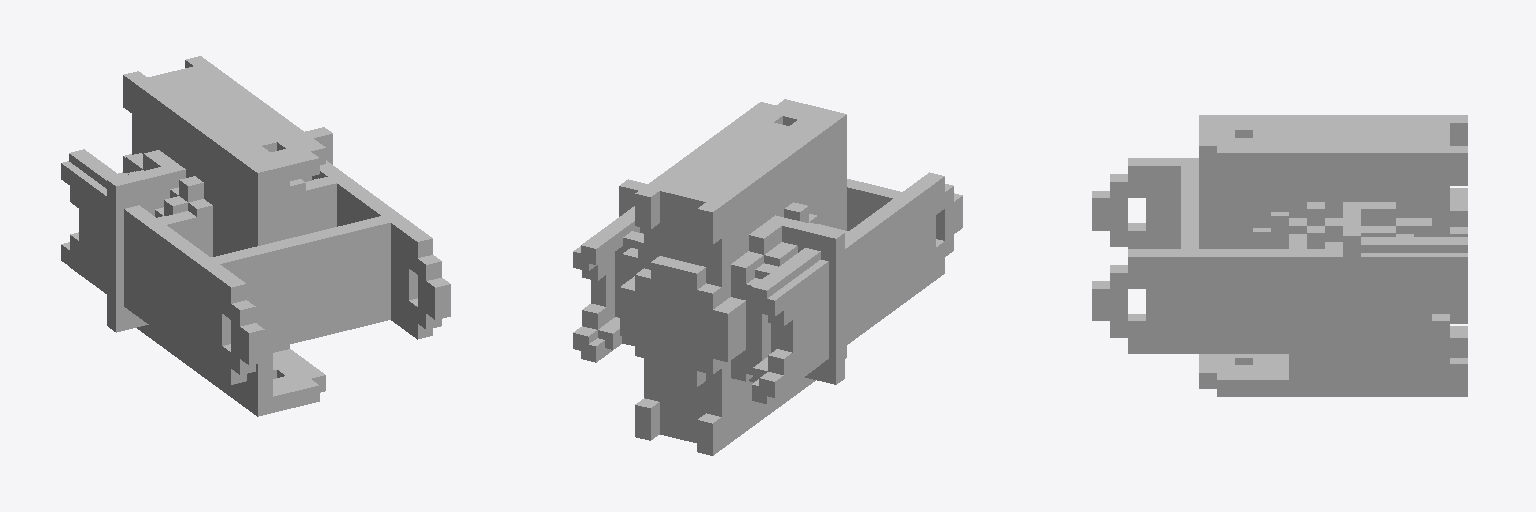
The model's file is packsHouseProps.obj.
3 renders of one model, left to right at view 1: azimuth 30°, elevation 25°; view 2: azimuth 150°, elevation 25°; view 3: azimuth 270°, elevation 25°, orthographic.
Visible parts, largest first — view 1: estanteB, estanteA, mesaRectangular, calderon, estanteC, mesaRedonda, barril; view 2: estanteA, estanteB, barril, mesaRectangular, calderon, estanteC, mesaRedonda; view 3: estanteB, estanteA, mesaRectangular, calderon, barril, mesaRedonda, sillaA, estanteC.
Part boxes in pixels (x1,y1,x2,y2): estanteB: (61, 160, 450, 384); estanteA: (123, 56, 325, 416); mesaRectangular: (69, 127, 332, 332); calderon: (119, 138, 320, 287); estanteC: (139, 193, 392, 349); mesaRedonda: (158, 164, 318, 217); barril: (118, 139, 305, 256); estanteA: (635, 99, 846, 455); estanteB: (573, 172, 962, 397); barril: (620, 237, 770, 386); mesaRectangular: (581, 179, 844, 403); calderon: (622, 197, 845, 395); estanteC: (598, 192, 915, 382); mesaRedonda: (629, 189, 823, 382); estanteB: (1092, 158, 1467, 353); estanteA: (1199, 115, 1467, 396); mesaRectangular: (1343, 207, 1467, 381); calderon: (1289, 186, 1436, 363); barril: (1396, 188, 1467, 323); mesaRedonda: (1307, 186, 1467, 363); sillaA: (1253, 212, 1288, 248); estanteC: (1181, 158, 1252, 352).
Size of the model in its own units: 140 by 150 by 210.